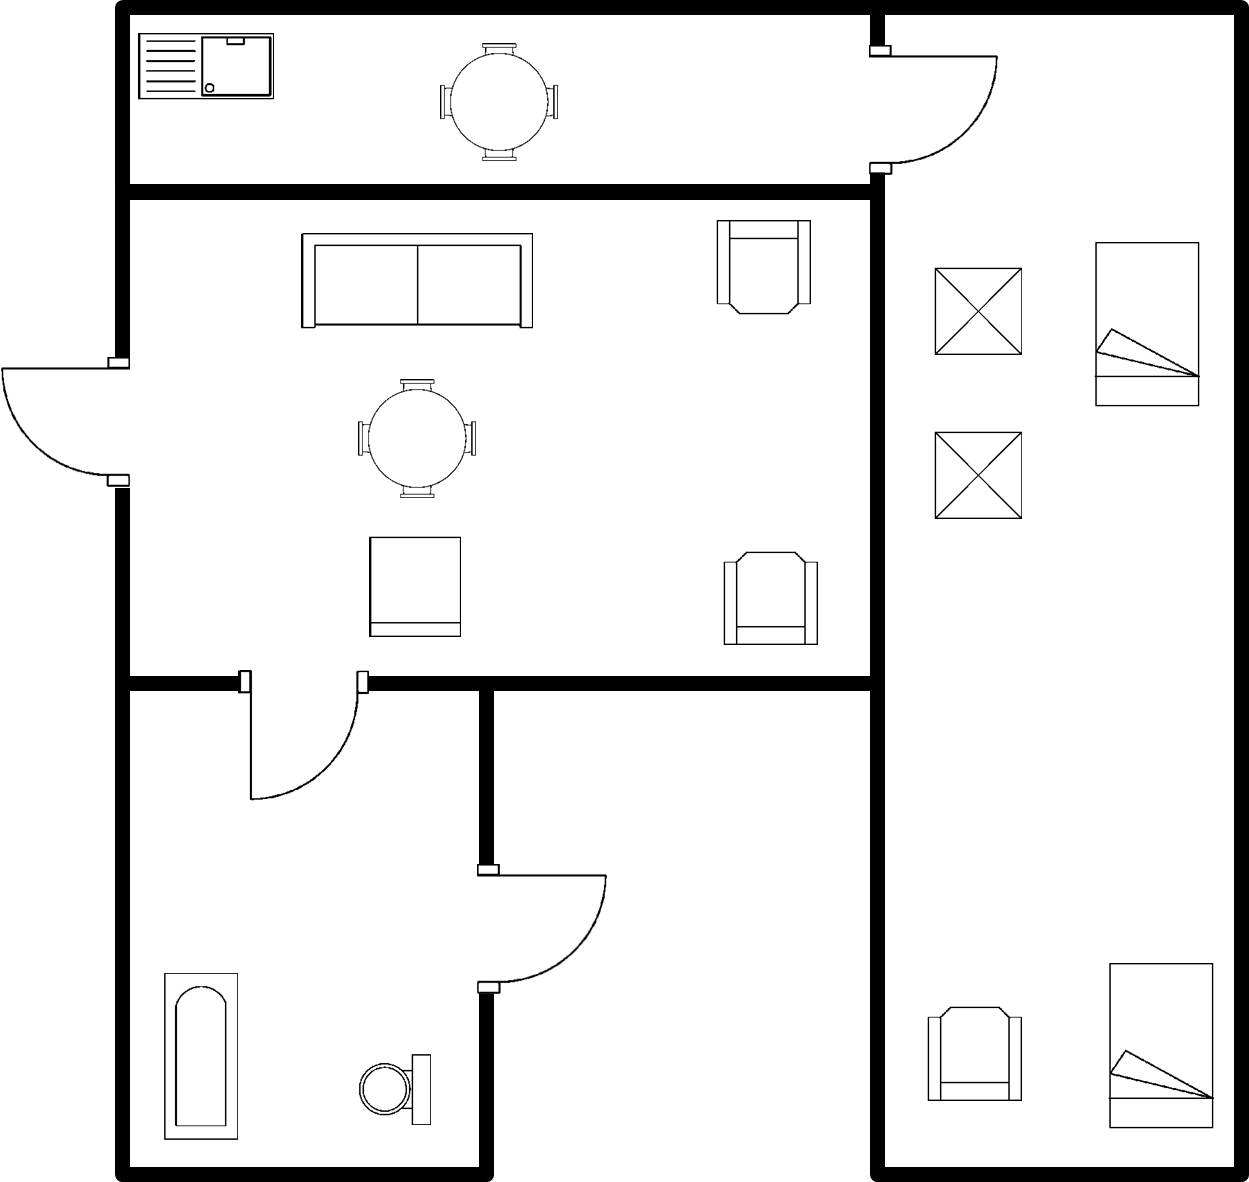armchair: (919, 996, 1029, 1117), (709, 214, 819, 327), (715, 544, 827, 653)
bed: (1101, 954, 1221, 1136), (1090, 235, 1205, 413)
coffee_table: (921, 422, 1034, 528), (927, 258, 1033, 365)
large_sink: (352, 1045, 438, 1134)
large_sofa: (295, 226, 540, 335)
round_table: (343, 367, 499, 507), (434, 35, 565, 165)
sink: (133, 27, 282, 107)
small_sofa: (356, 522, 472, 646)
tub: (158, 966, 245, 1150)
